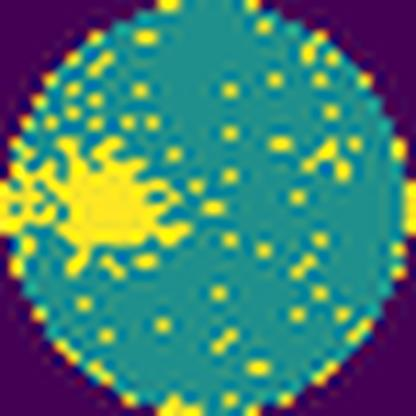Loc: (3, 134, 190, 276)
